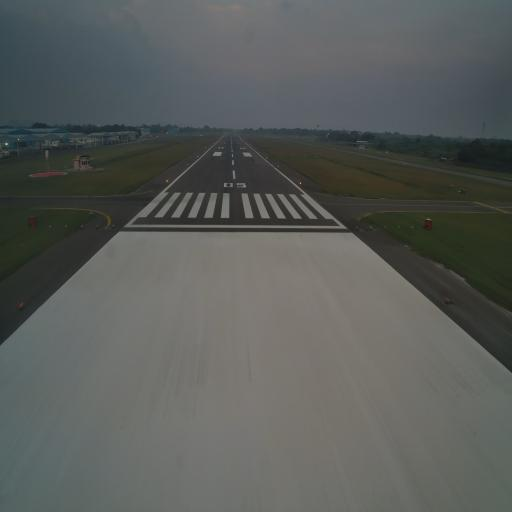on: (19, 300, 24, 308), (445, 296, 450, 303), (64, 223, 68, 229), (80, 223, 84, 229), (96, 223, 100, 228), (112, 222, 115, 228), (48, 224, 52, 228), (370, 225, 373, 229), (384, 225, 387, 229), (397, 226, 400, 230), (411, 225, 414, 229), (356, 226, 358, 230)
